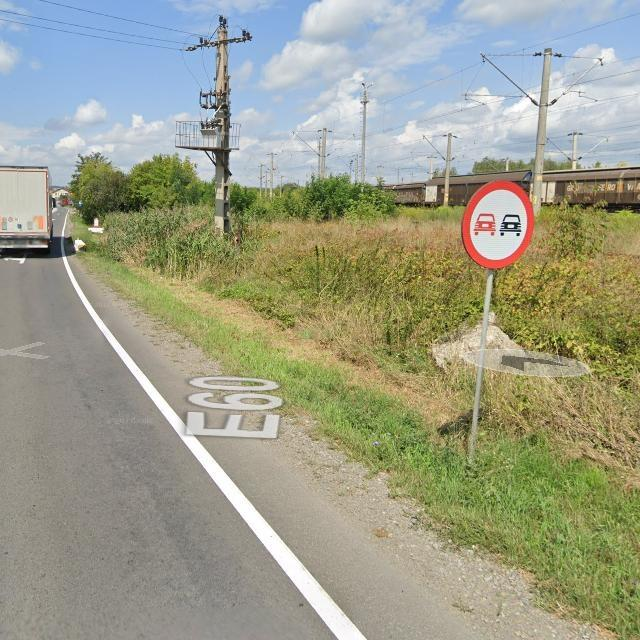forb_overtake: (465, 182, 536, 270)
